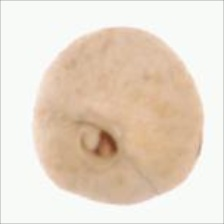L3: (77, 120, 122, 164)
L4: (32, 26, 205, 204)
